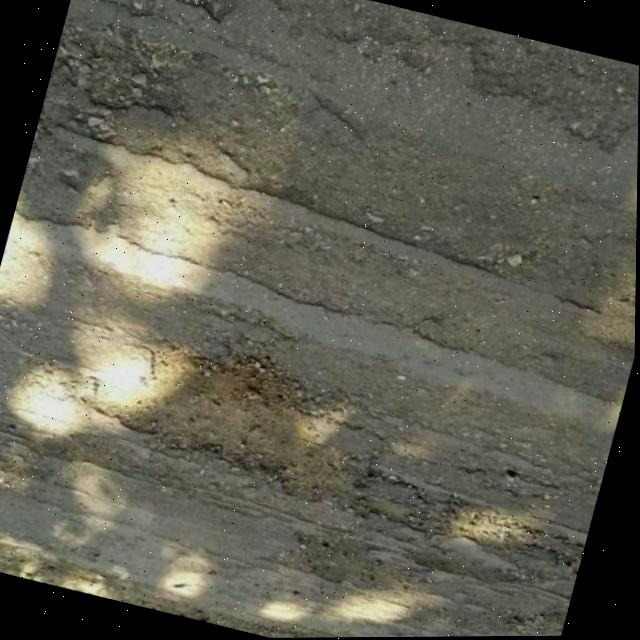Pothole: (64, 319, 420, 524)
